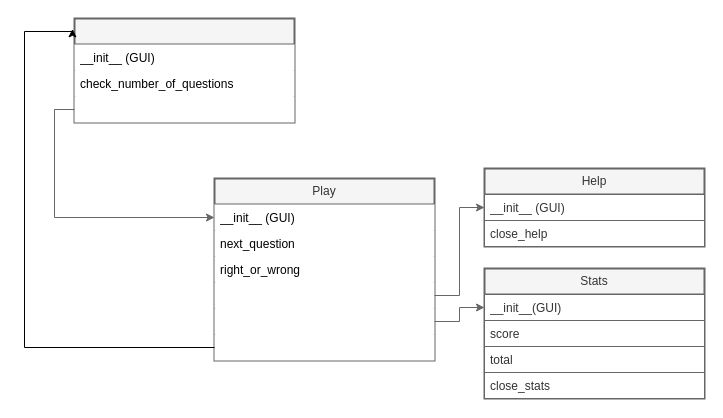
The diagram is 723 pixels wide and 418 high, and some of its shapes have lost their labels. The box of each missing label's shape, as (x1, y1, x2, y2) in pixels:
new_game: (214, 334, 434, 360)
Start: (73, 17, 295, 123)
to _help: (214, 282, 434, 308)
to_enter: (74, 96, 294, 122)
to_stats: (214, 308, 434, 334)
